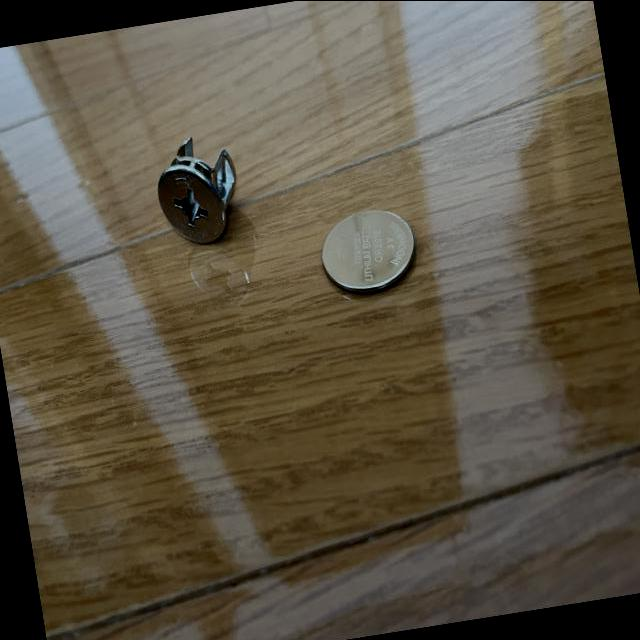COIN: (315, 203, 423, 301)
